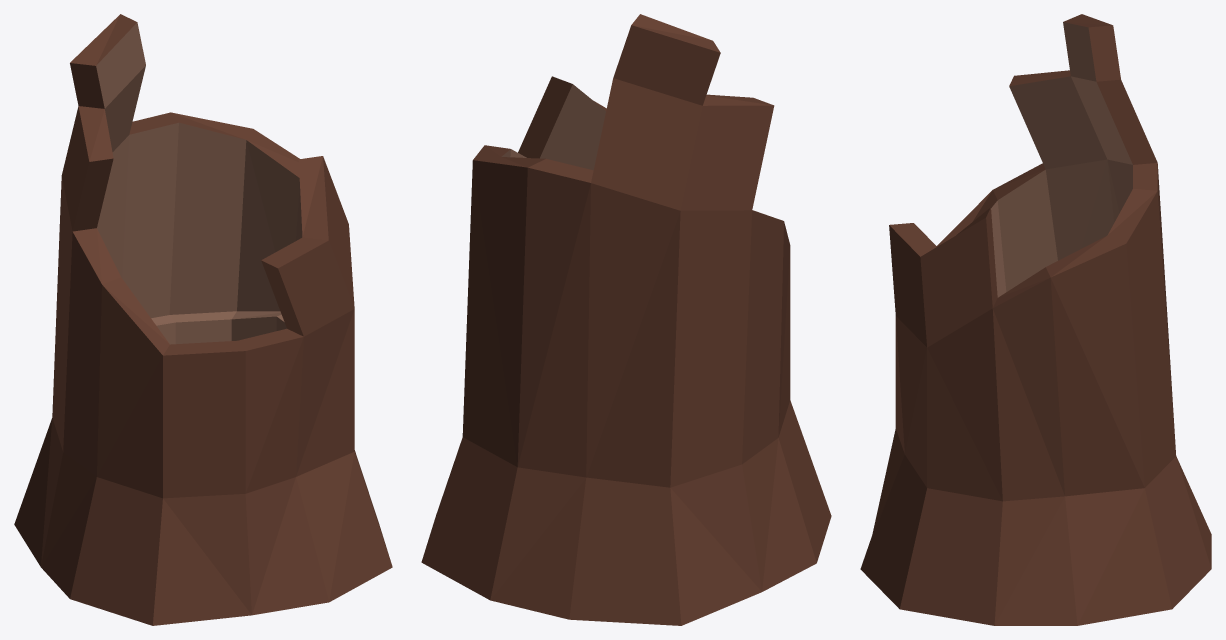
File: Stump3.fbx
3 renders of one model, left to right at view 1: azimuth 30°, elevation 25°; view 2: azimuth 150°, elevation 25°; view 3: azimuth 270°, elevation 25°, orthographic. The views are drawn at different scales.
Parts seen in each view (by area): view 1: Stump3; view 2: Stump3; view 3: Stump3.
Part boxes in pixels (x1,y1,x2,y2): Stump3: (14, 14, 392, 625); Stump3: (421, 14, 831, 625); Stump3: (860, 14, 1211, 625).
Size of the model in its own units: 494 by 784 by 494.
